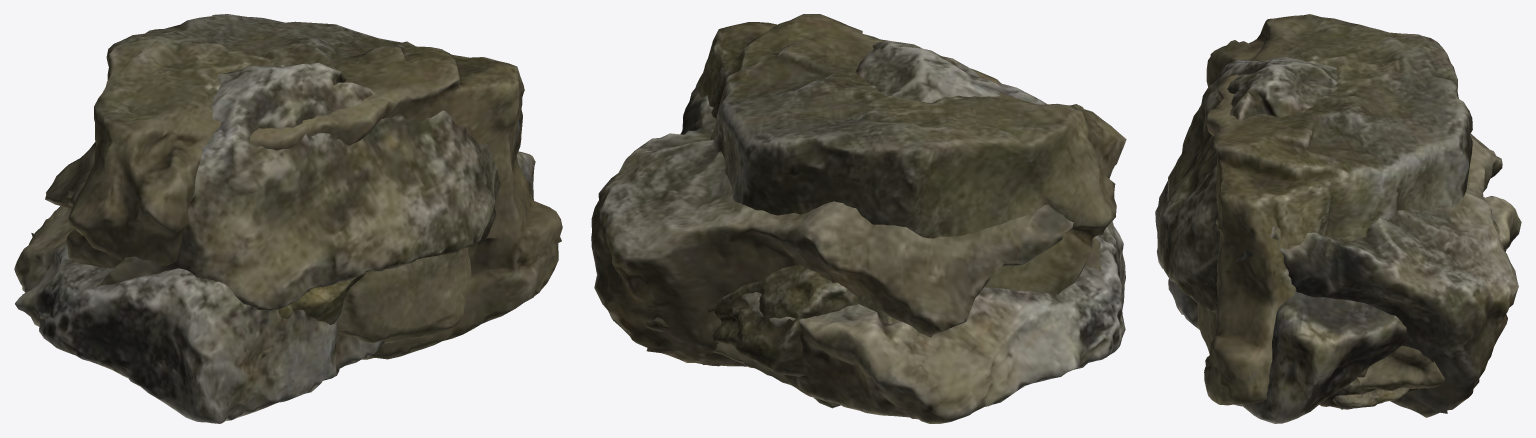
The model's file is rocks_scan.glb.
3 views of the same model, side by side, from view 1: azimuth 30°, elevation 25°; view 2: azimuth 150°, elevation 25°; view 3: azimuth 270°, elevation 25° (orthographic). The views are drawn at different scales.
Visible parts, largest first — view 1: Scan6, Scan4, Scan3, Scan0, Scan5; view 2: Scan6, Scan4, Scan3, Scan5, Scan0; view 3: Scan6, Scan4, Scan3, Scan0, Scan2, Scan5.
Part boxes in pixels (x1,y1,x2,y2): Scan6: (66, 14, 562, 359); Scan4: (45, 62, 521, 311); Scan3: (14, 151, 535, 423); Scan0: (337, 247, 471, 343); Scan5: (257, 272, 365, 361); Scan6: (696, 14, 1126, 408); Scan4: (591, 40, 1101, 366); Scan3: (741, 221, 1125, 423); Scan5: (645, 264, 858, 376); Scan0: (713, 295, 897, 384); Scan6: (1204, 14, 1472, 405); Scan4: (1158, 57, 1518, 417); Scan3: (1155, 181, 1521, 423); Scan0: (1197, 304, 1444, 390); Scan2: (1332, 387, 1410, 409); Scan5: (1319, 218, 1503, 409).
Size of the model in its own units: 2.2 by 1.31 by 1.55.
1 material, 1 textured.
